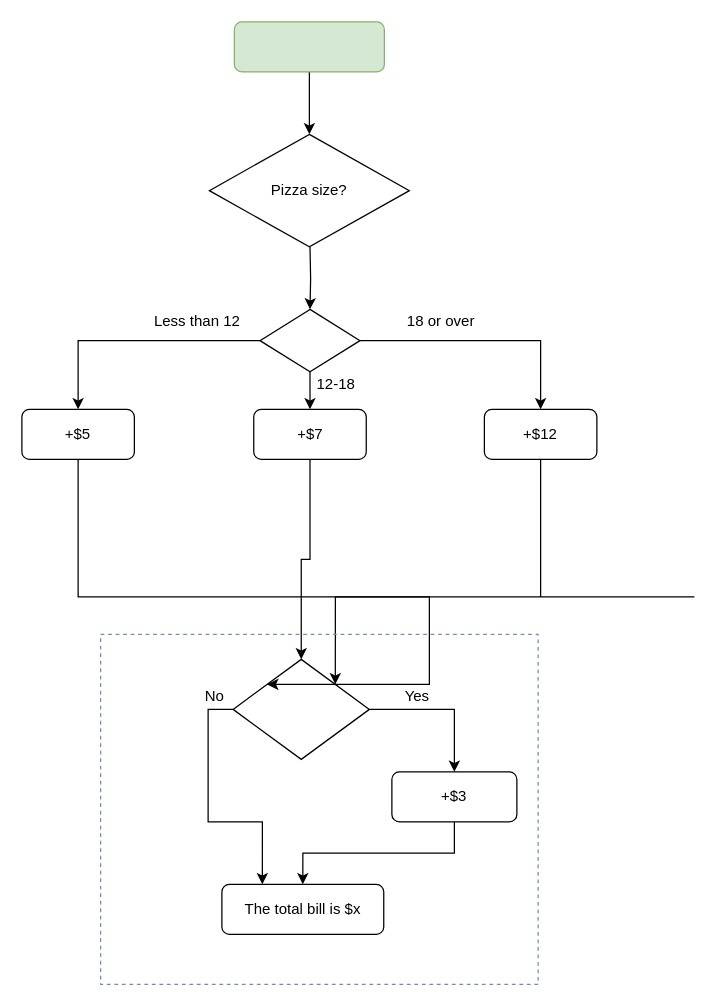
Image size: 726x1006. Some labels were removed from this diagram. The shapes that lost their labels are listed below. From the top down, each one's centre as x and y in pixels, then its label:
the point at 308,46: Start
the point at 309,340: age
the point at 300,708: want photos?
